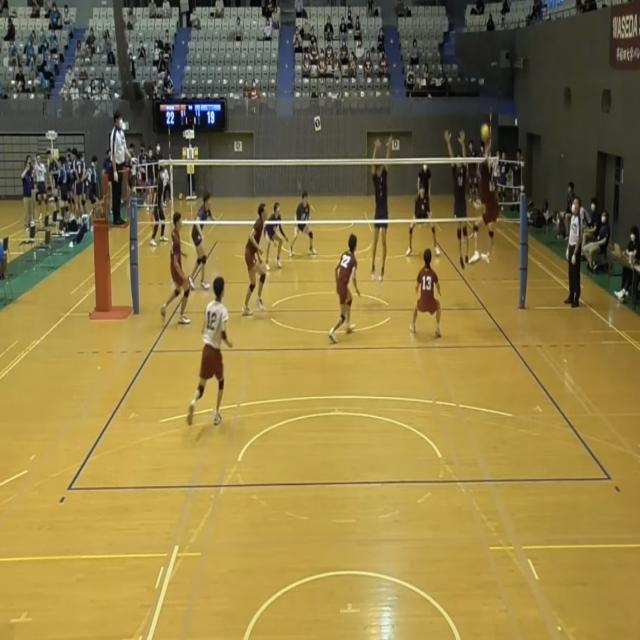spike: (470, 122, 502, 271)
